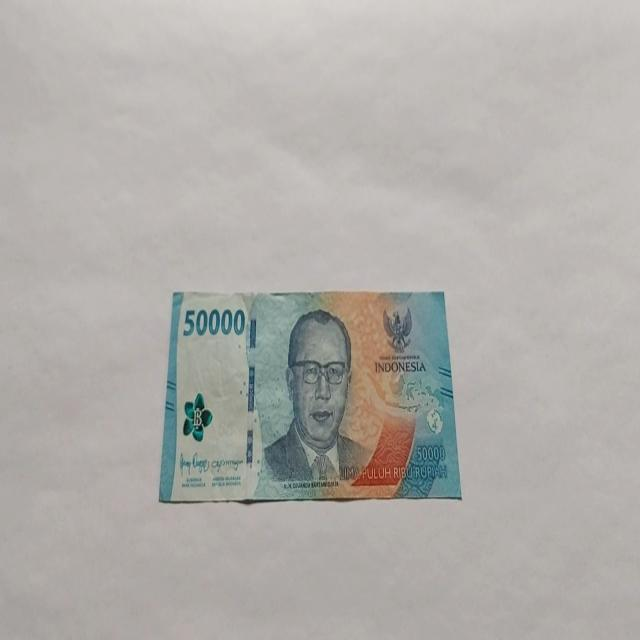lima puluh ribu rupiah: (158, 287, 462, 505), (260, 307, 372, 489)
